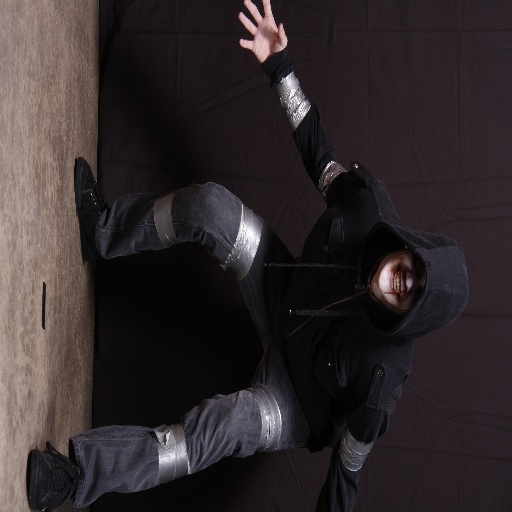hand: (235, 10, 294, 59)
